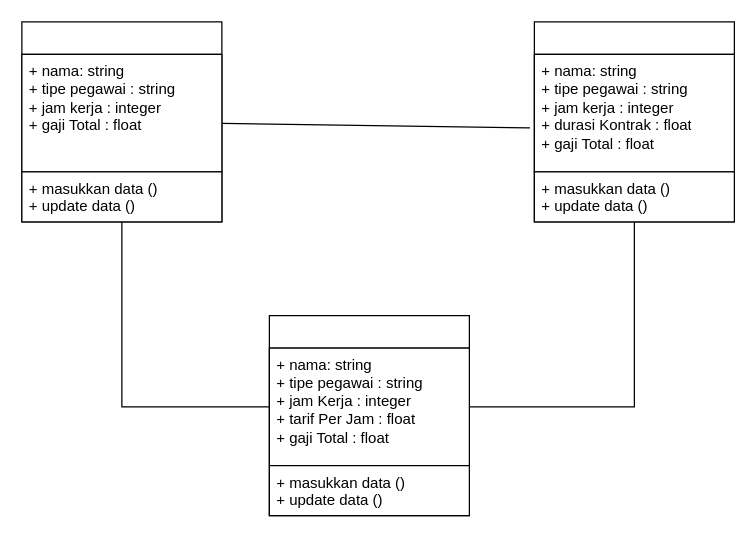
Some shapes in this 756 by 541 pixel diagram are drawn without their labels. The shapes that lost their labels are listed below. From the top down, each one's box as (x1, y1, x2, y2) in pixels, then its label:
(21, 21, 222, 222): Pegawai Tetap
(533, 21, 734, 222): Pegawai Kontrak
(268, 314, 469, 516): Pegawai Harian
